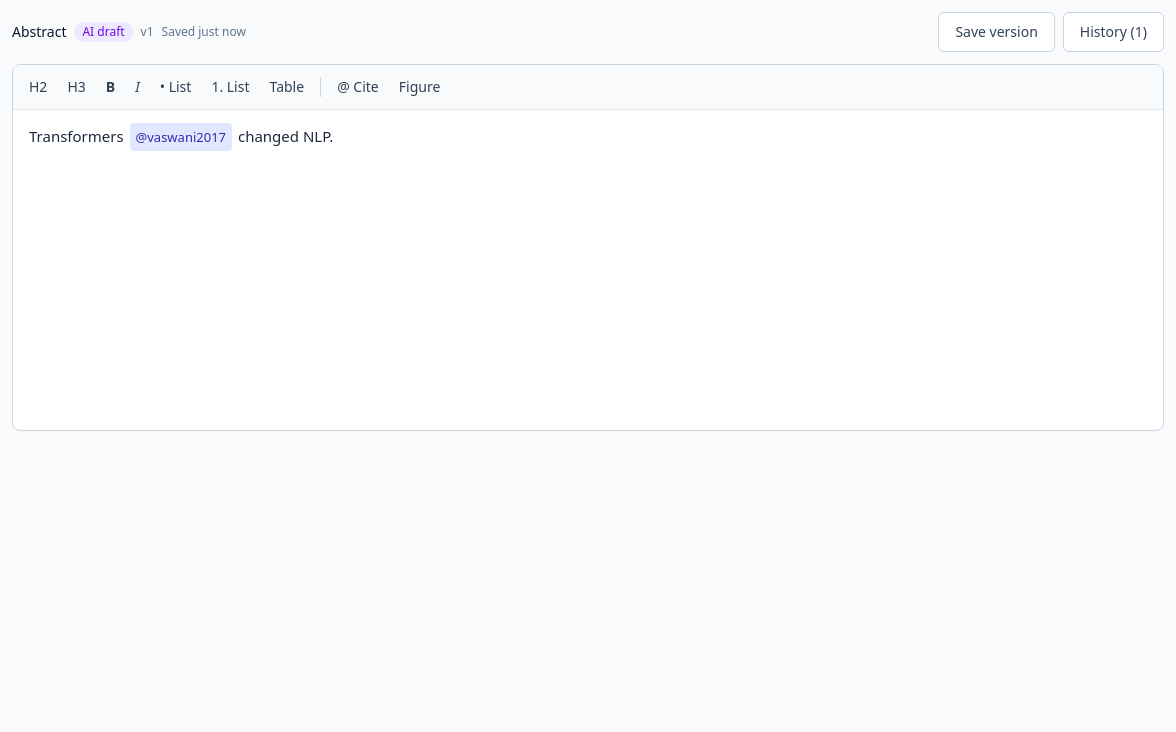
Test: SectionEditor › shows a conflict when the section changed elsewhere
The width and height of the screenshot is (1176, 732).
Click the button "Save version" at x=997, y=32, box left=938, top=12, right=1055, bottom=52
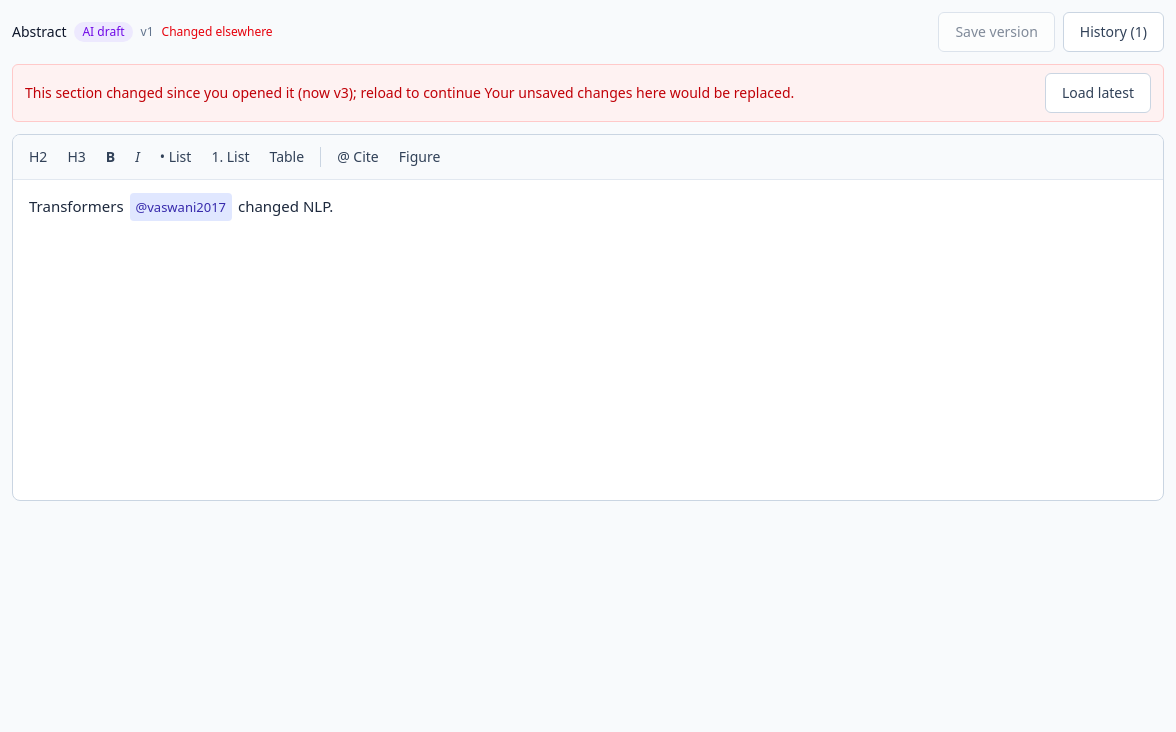
Check: the text "Changed elsewhere" is shown, box left=162, top=24, right=273, bottom=40
Check: the 2nd message shows "now v3", box left=25, top=83, right=481, bottom=102
Check: the button "Load latest" is shown, box left=1045, top=73, right=1151, bottom=113
